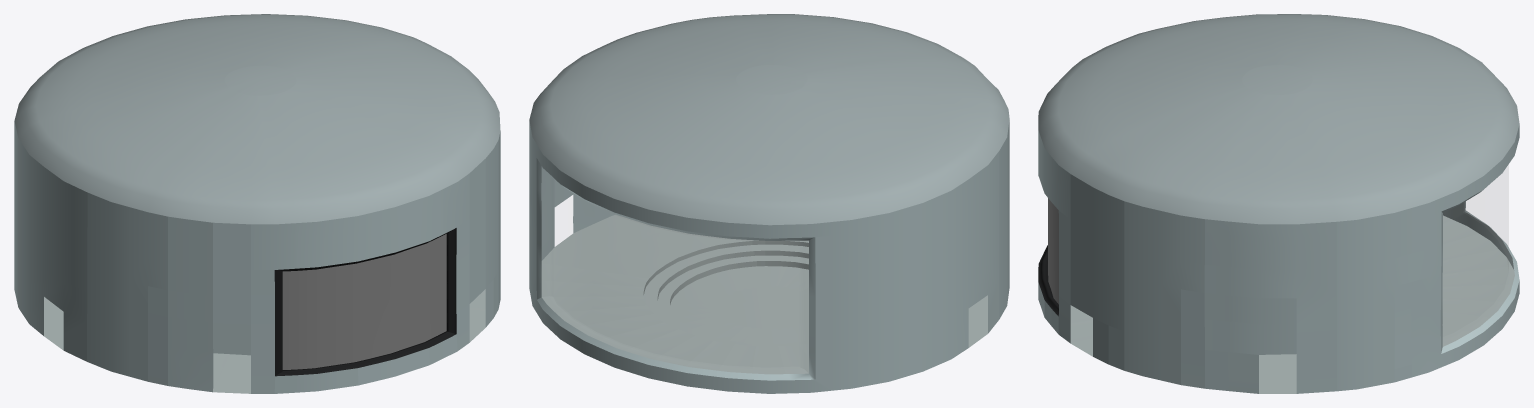
File: Conference_Room.fbx
The picture shows the model from 3 angles, left to right: view 1: azimuth 30°, elevation 25°; view 2: azimuth 150°, elevation 25°; view 3: azimuth 270°, elevation 25°; orthographic projection.
Visible parts, largest first — view 1: Conference_Building; view 2: Conference_Building; view 3: Conference_Building.
Boxes of the visible parts, bbox=[...] form: Conference_Building: bbox=[14, 14, 500, 393]; Conference_Building: bbox=[529, 14, 1009, 393]; Conference_Building: bbox=[1038, 14, 1519, 393].
Bounding box in the file's own units: 2431 × 1273 × 2435.
